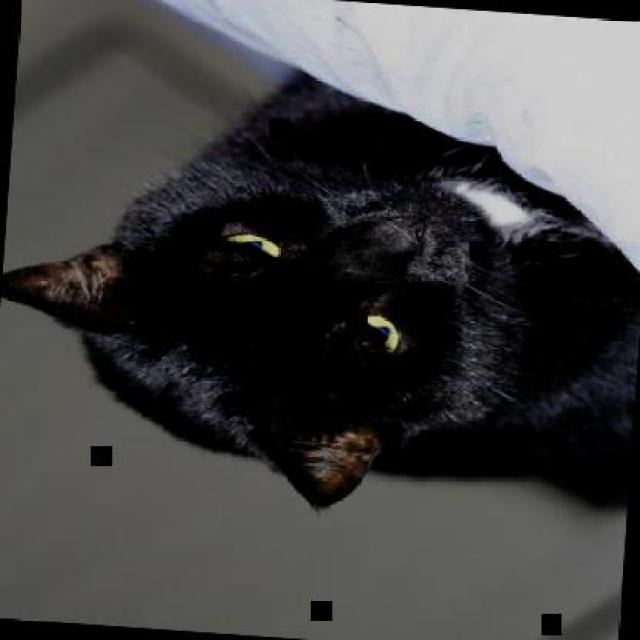cat: (0, 47, 638, 532)
